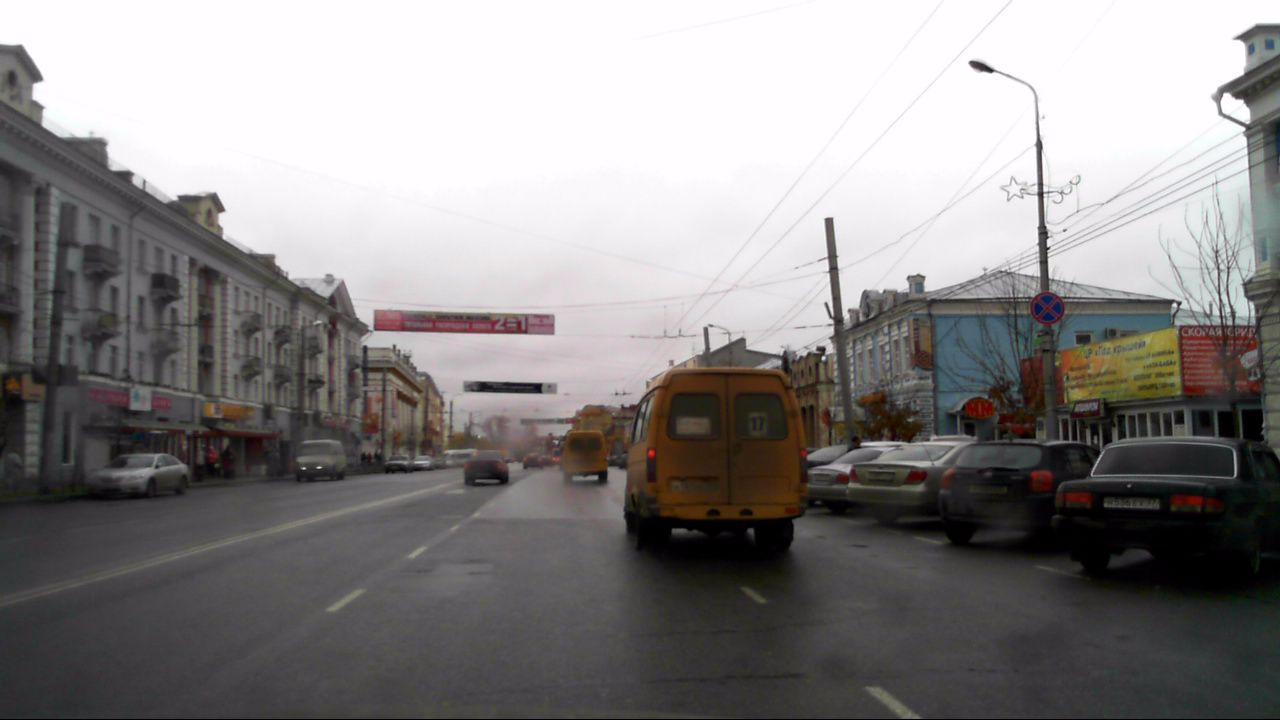No Parking: (1030, 291, 1064, 325)
